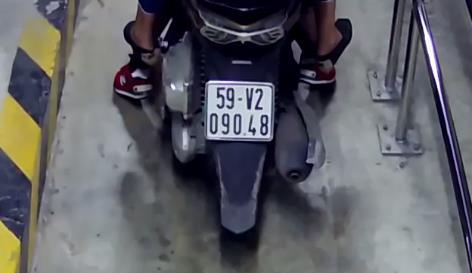lisence: (204, 81, 275, 141)
